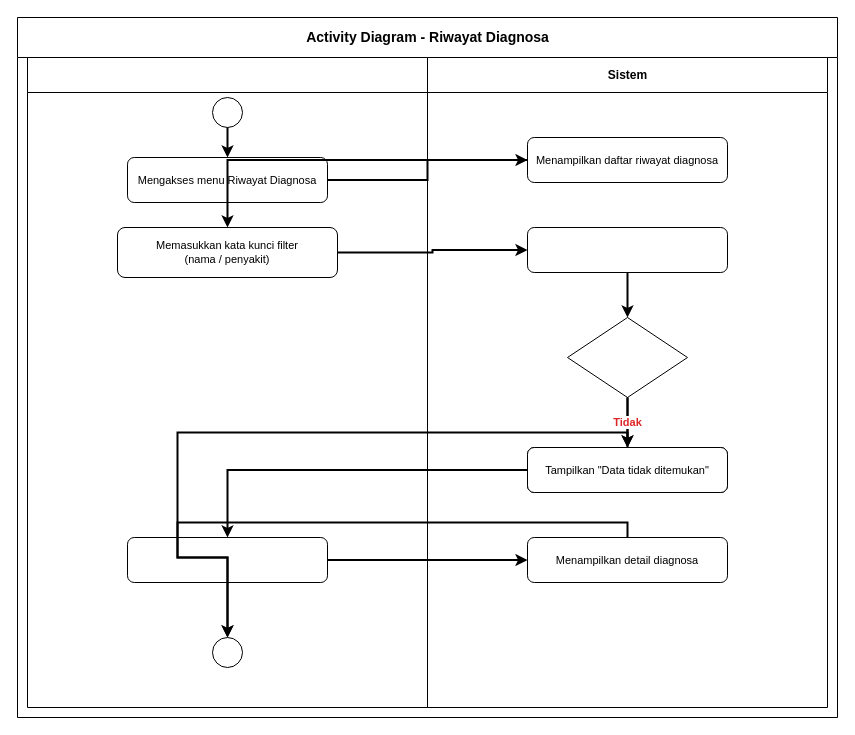
Some shapes in this 855 by 735 pixel diagram are drawn without their labels. Here are the shapes that lost their labels. From the top down, the box of each, then its label:
(526, 226, 728, 272): Query database berdasarkan filter
(566, 316, 688, 398): Data ditemukan?
(26, 56, 428, 708): Pengguna
(126, 536, 328, 582): Memilih riwayat untuk dilihat
